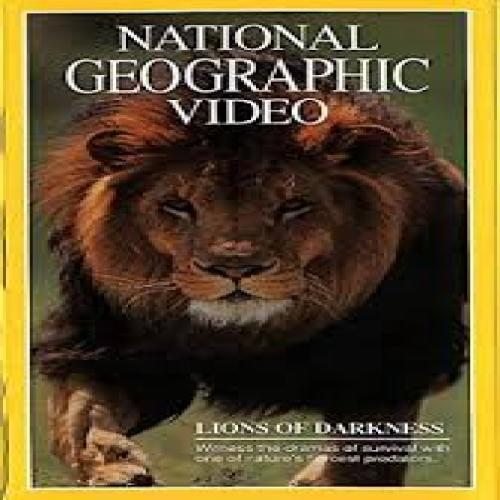lion-endangered: (29, 54, 466, 477)
